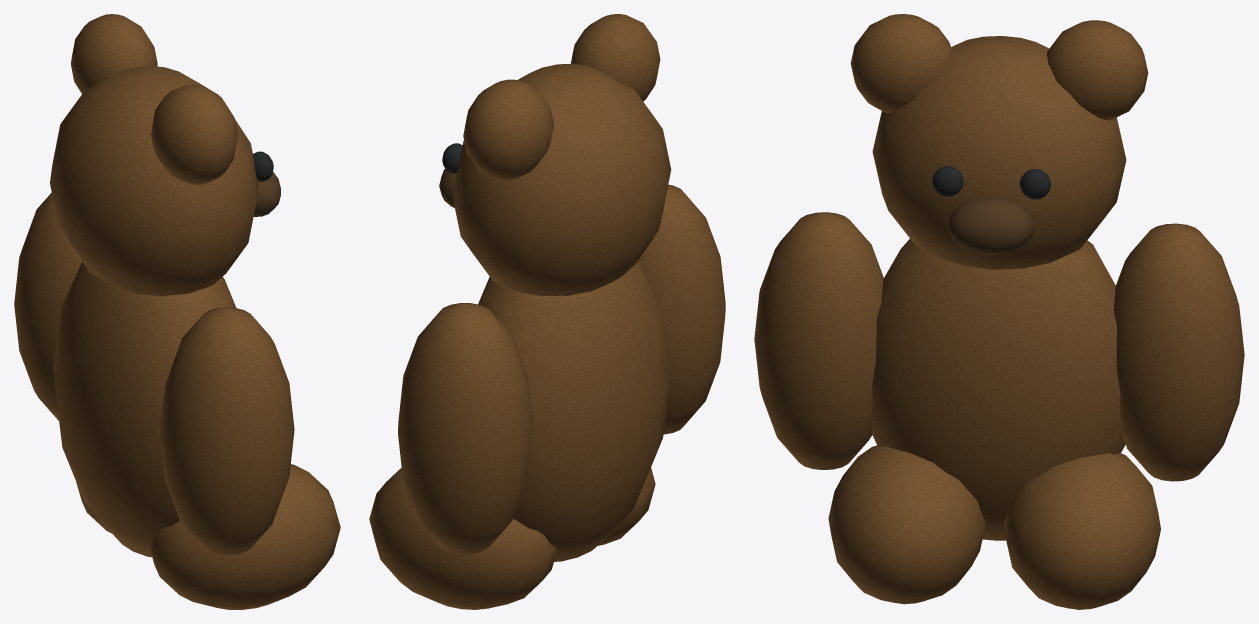
The model's file is SM_TeddyPrize_eac60aef57.fbx.
3 views of the same model, side by side, from view 1: azimuth 30°, elevation 25°; view 2: azimuth 150°, elevation 25°; view 3: azimuth 270°, elevation 25° (orthographic). The views are drawn at different scales.
Parts seen in each view (by area): view 1: SM_TeddyPrize_eac60aef57; view 2: SM_TeddyPrize_eac60aef57; view 3: SM_TeddyPrize_eac60aef57.
Part boxes in pixels (<box>): SM_TeddyPrize_eac60aef57: <box>14,14,340,609</box>; SM_TeddyPrize_eac60aef57: <box>369,14,725,609</box>; SM_TeddyPrize_eac60aef57: <box>754,14,1244,609</box>.
Size of what is drawn, in the model's own units: 33.82 by 59.61 by 73.67.
Materials: 3 (1 with a texture image).
